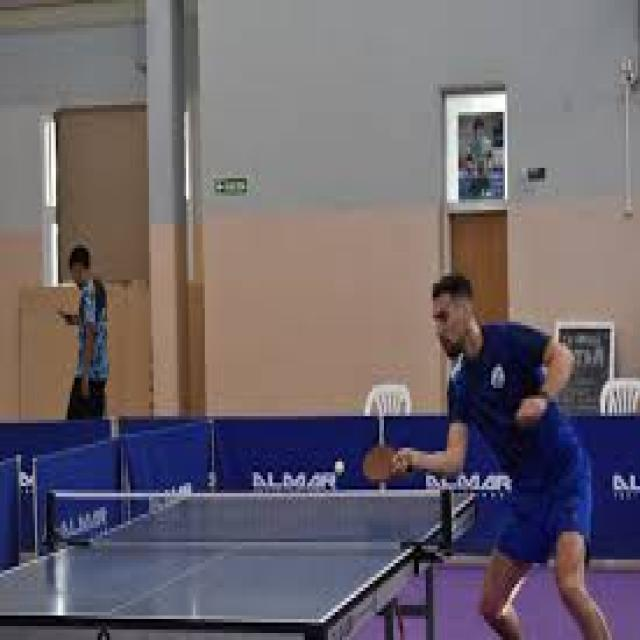TT Net: (41, 487, 454, 556)
TT Racket: (354, 434, 403, 489)
TT Table: (0, 491, 478, 620)
